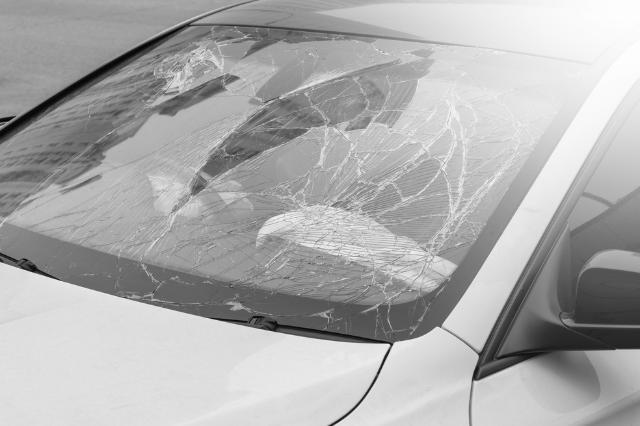Windshield: (6, 27, 467, 302)
